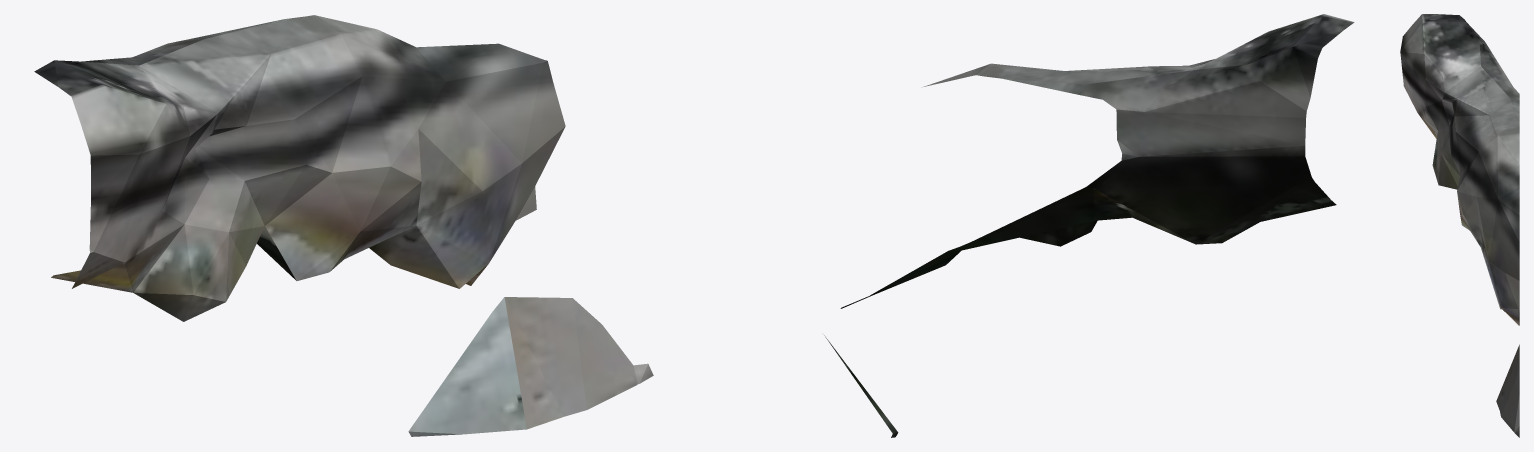
3 renders of one model, left to right at view 1: azimuth 30°, elevation 25°; view 2: azimuth 150°, elevation 25°; view 3: azimuth 270°, elevation 25°, orthographic. The views are drawn at different scales.
Bounding box in the file's own units: 0.4429 × 0.3223 × 0.1347.
Materials: 1 (1 with a texture image).
